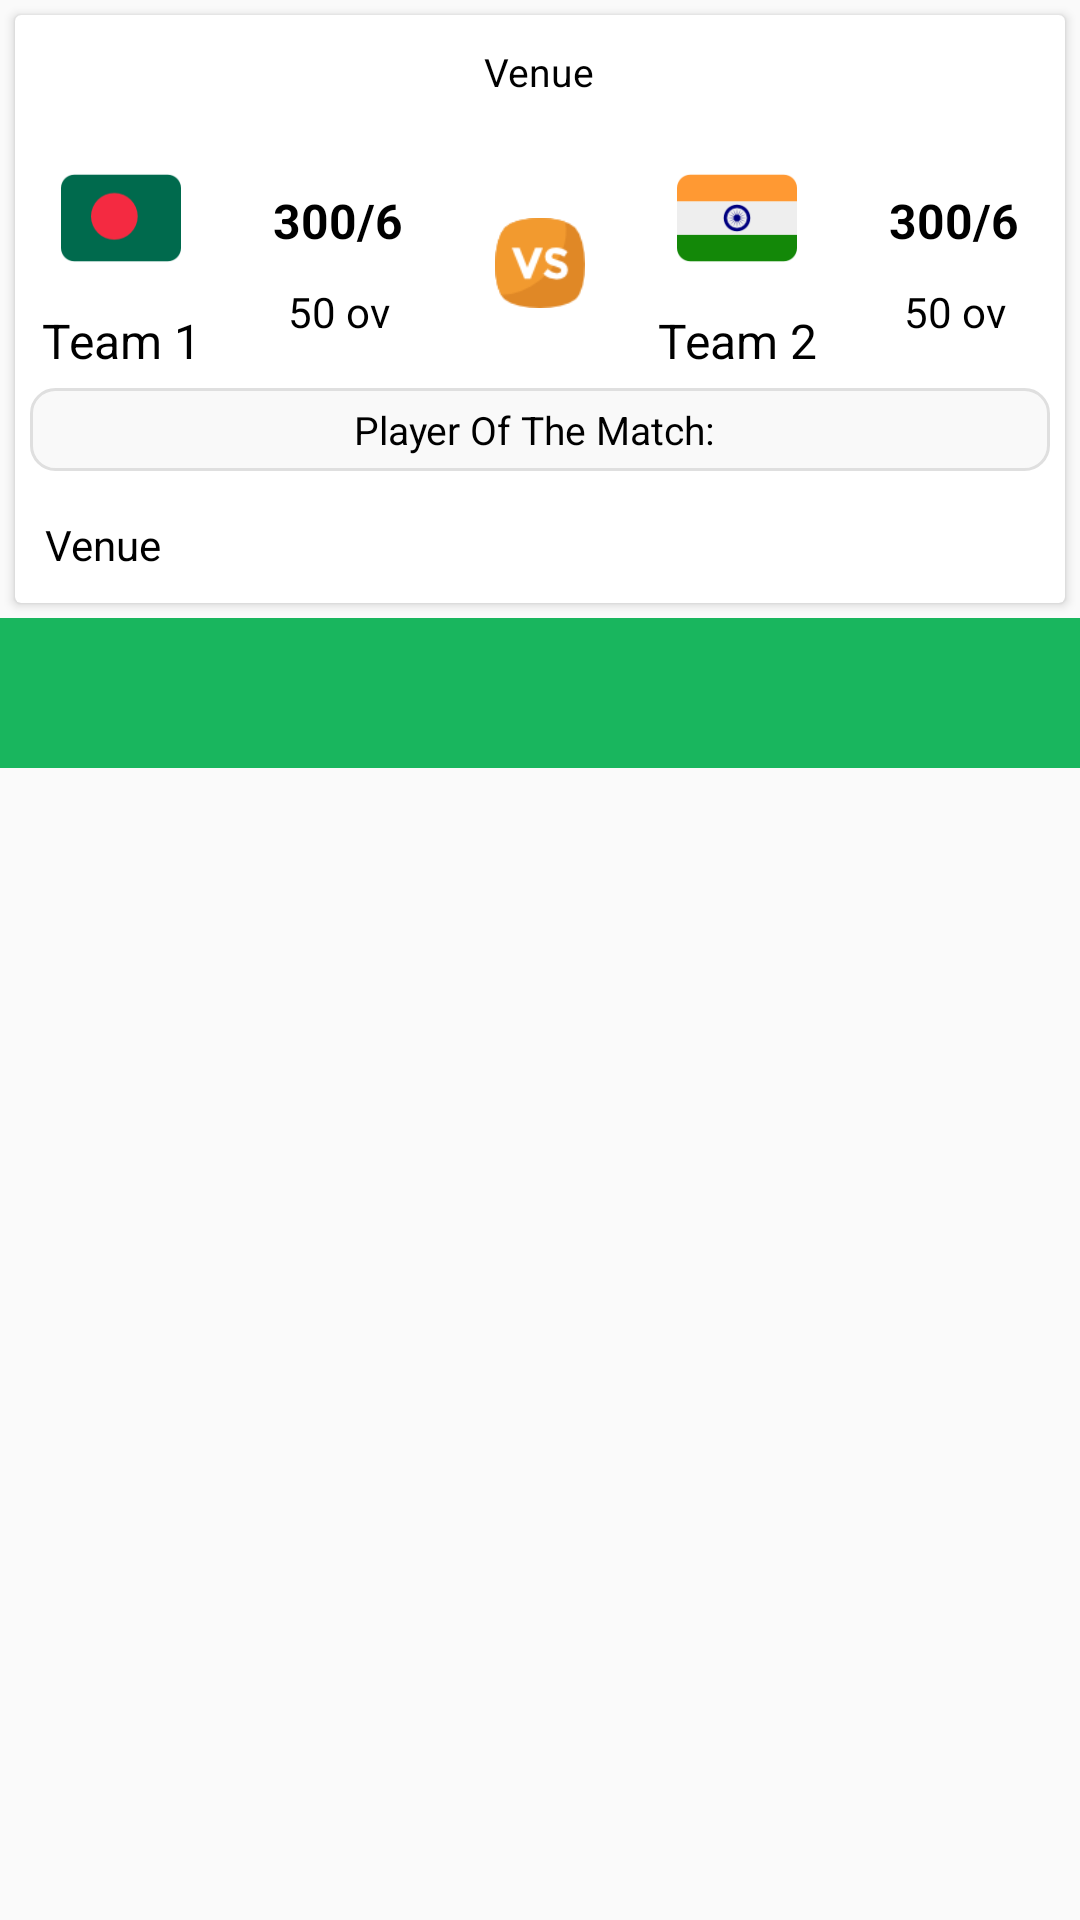

Where to tap for icons on this 1080 × 1920 app screen, as (x=x, y=y):
bangladesh: (x=121, y=218)
india: (x=737, y=218)
